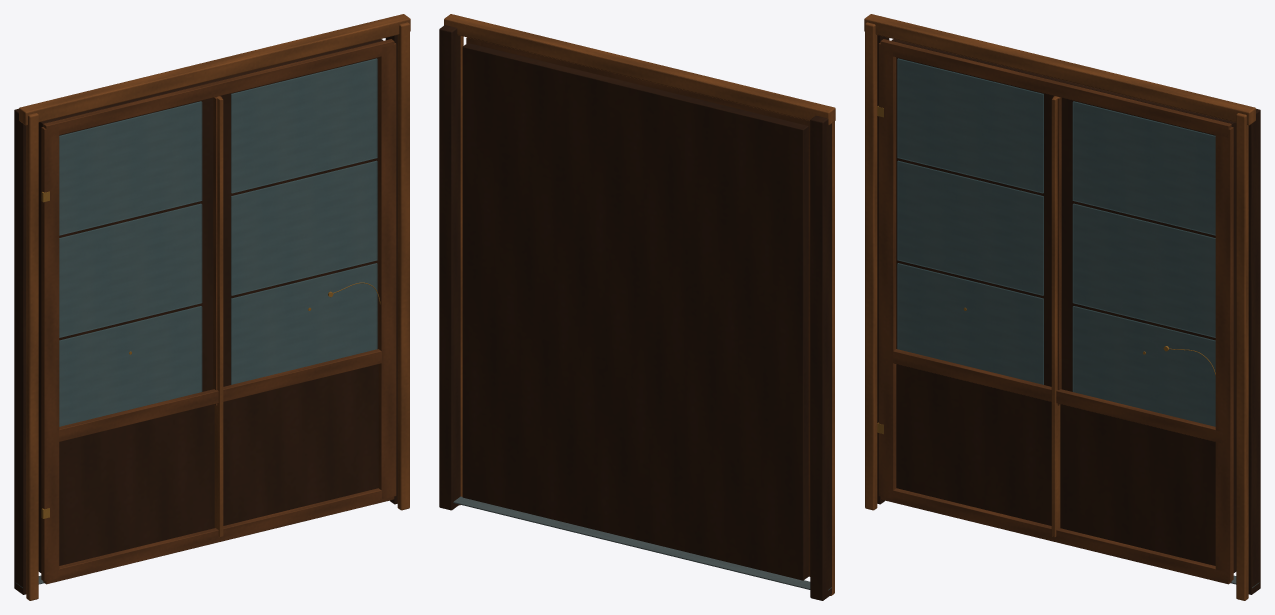
The model's file is asset.glb.
3 views of the same model, side by side, from view 1: azimuth 30°, elevation 25°; view 2: azimuth 150°, elevation 25°; view 3: azimuth 330°, elevation 25° (orthographic).
Visible parts, largest first — view 1: MaterialBatch_Smoke-stained_walnut, MaterialBatch_Low-iron_glass, MaterialBatch_Quarter-sawn_oak, MaterialBatch_Photographic_warm_window_oak; view 2: MaterialBatch_Smoke-stained_walnut, MaterialBatch_Photographic_warm_window_oak, MaterialBatch_Quarter-sawn_oak, French door sill; view 3: MaterialBatch_Smoke-stained_walnut, MaterialBatch_Low-iron_glass, MaterialBatch_Quarter-sawn_oak, MaterialBatch_Photographic_warm_window_oak.
Boxes of the visible parts, left/top/right/bottom form: MaterialBatch_Smoke-stained_walnut: left=14, top=35, right=397, bottom=594; MaterialBatch_Low-iron_glass: left=59, top=58, right=377, bottom=426; MaterialBatch_Quarter-sawn_oak: left=41, top=39, right=396, bottom=584; MaterialBatch_Photographic_warm_window_oak: left=19, top=14, right=410, bottom=600; MaterialBatch_Smoke-stained_walnut: left=439, top=25, right=831, bottom=600; MaterialBatch_Photographic_warm_window_oak: left=444, top=14, right=835, bottom=595; MaterialBatch_Quarter-sawn_oak: left=466, top=37, right=810, bottom=576; French door sill: left=453, top=496, right=831, bottom=590; MaterialBatch_Smoke-stained_walnut: left=877, top=35, right=1260, bottom=594; MaterialBatch_Low-iron_glass: left=897, top=58, right=1215, bottom=426; MaterialBatch_Quarter-sawn_oak: left=878, top=39, right=1233, bottom=584; MaterialBatch_Photographic_warm_window_oak: left=864, top=14, right=1255, bottom=600.
Bounding box in the file's own units: 71.04 × 86.02 × 5.
6 materials, 6 textured.
